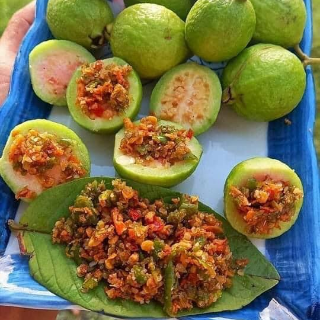oi: (221, 42, 305, 121)
